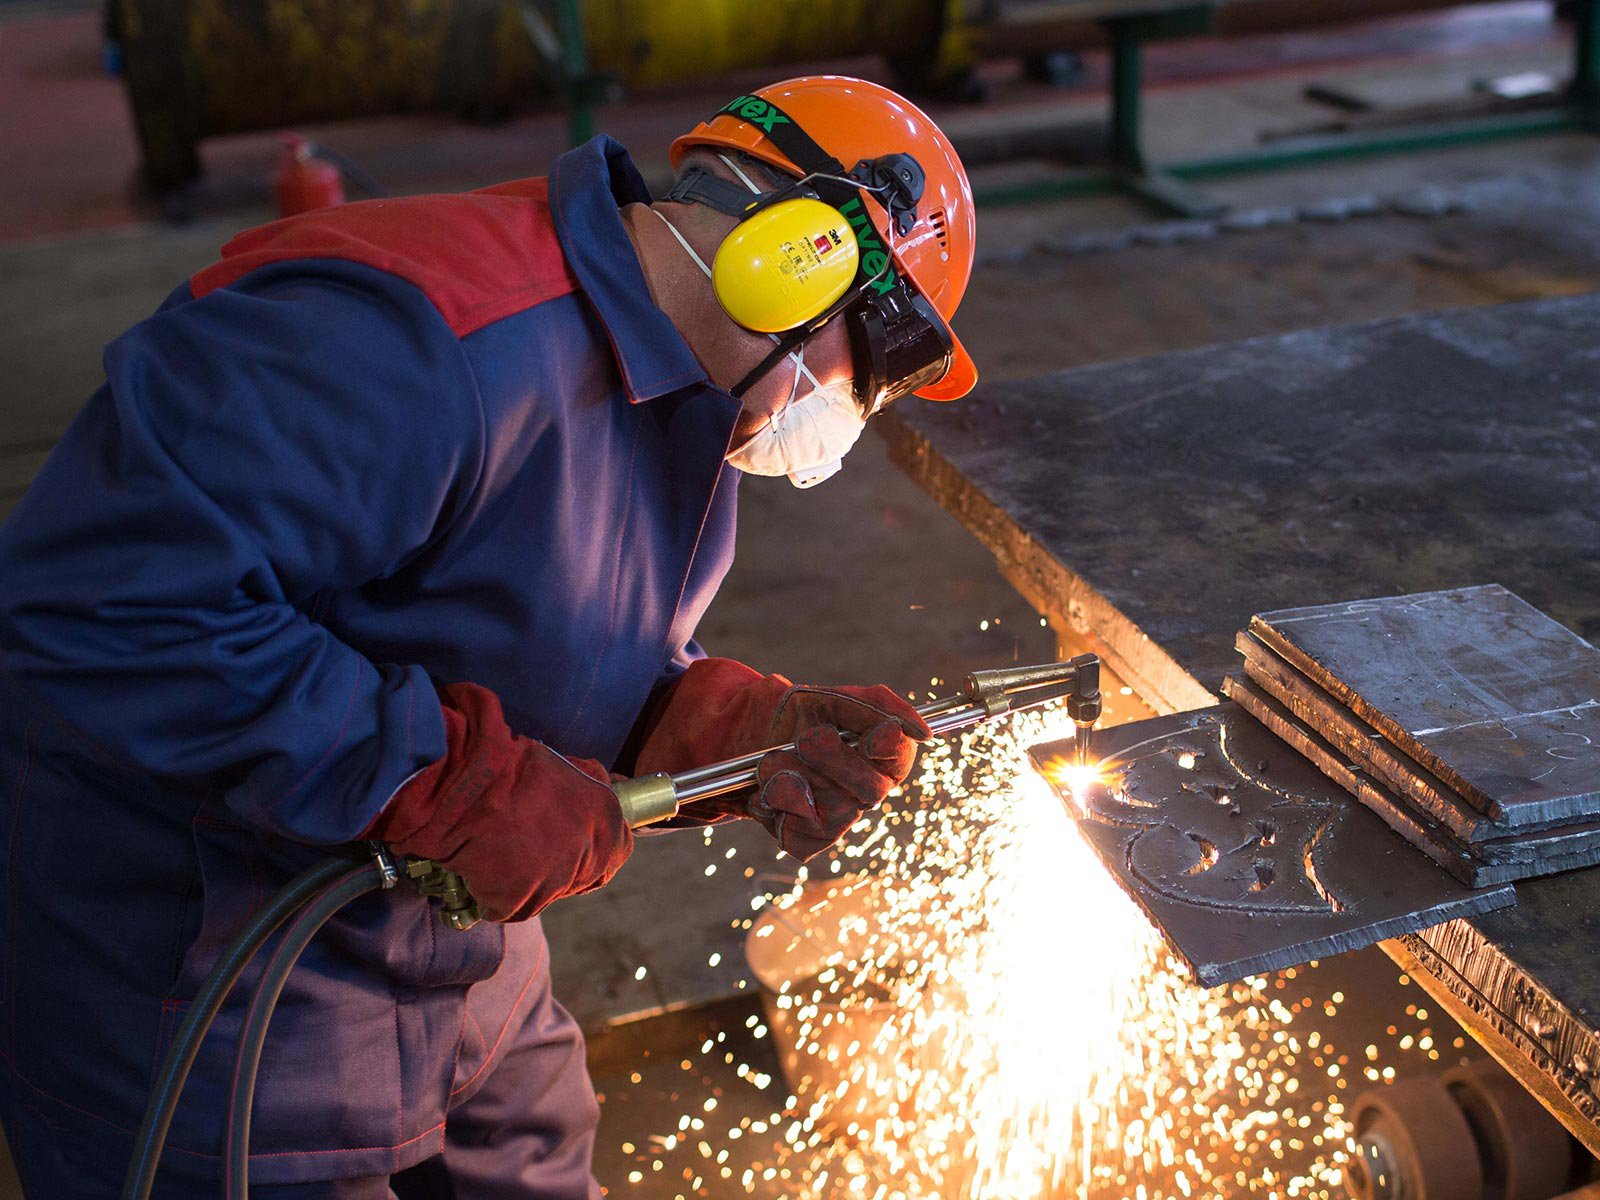person: (1, 73, 975, 1198)
